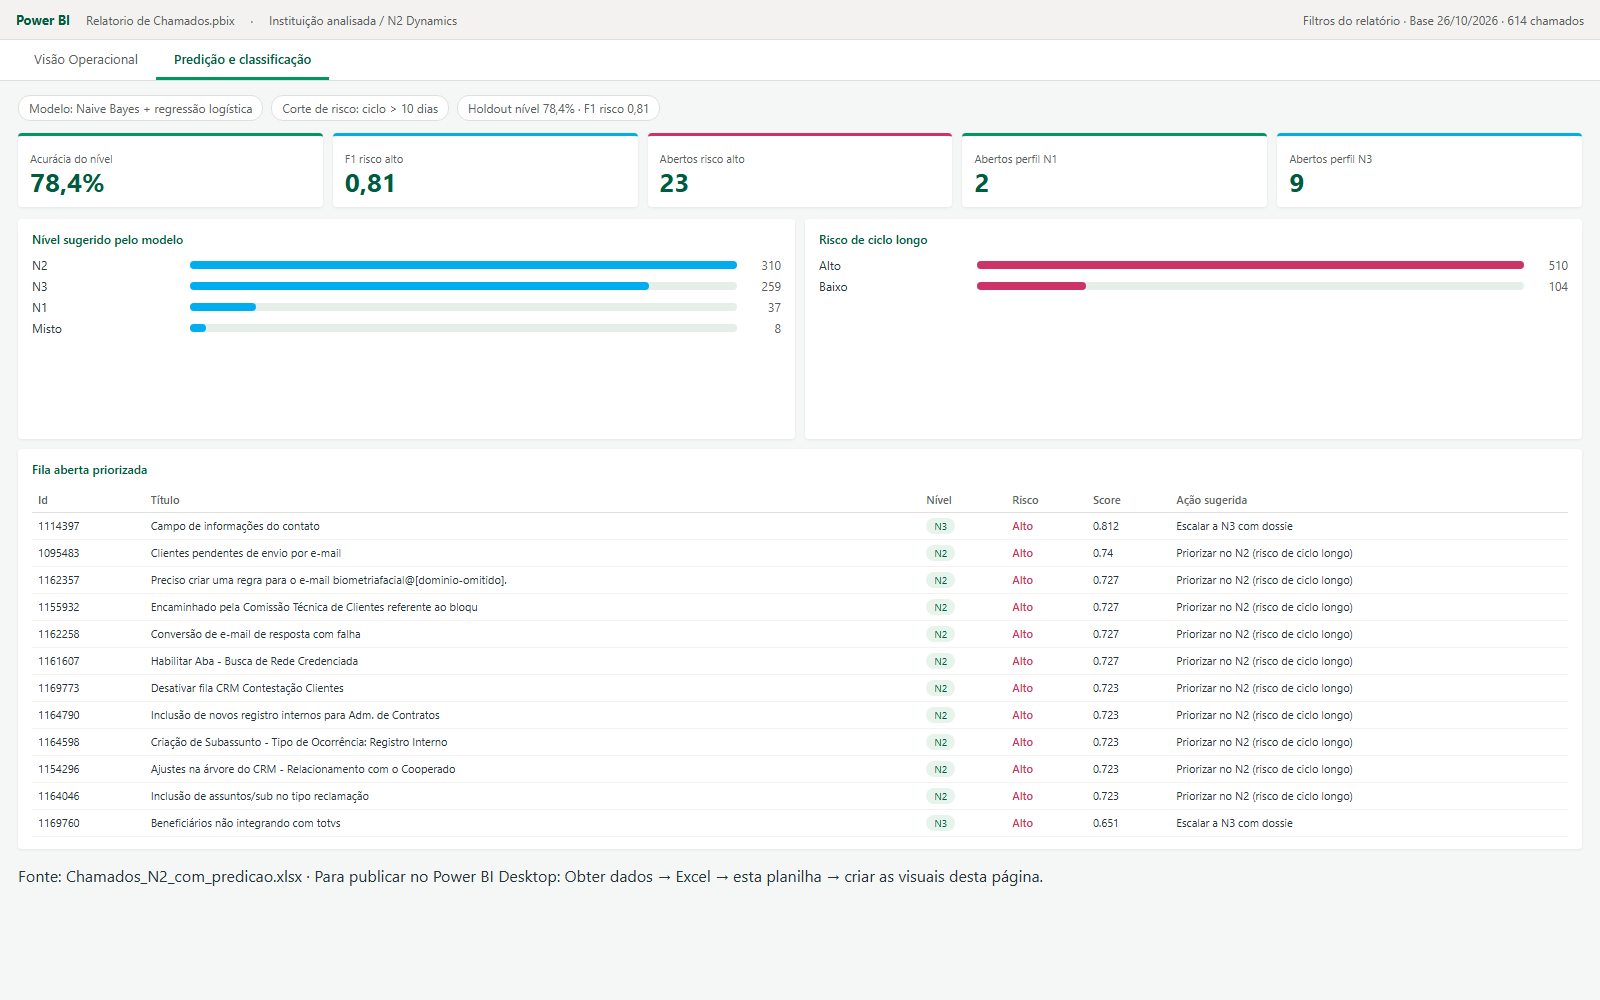

What the dashboard file says about the page in this screenshot:
{"tool":"powerbi","page":{"name":"Predição e Classificação","canvas":[1920,1080],"ordinal":1},"visuals":[{"type":"textbox","box":[0,0,1920,74],"z":0},{"type":"slicer","title":"Nível Preditivo (ML)","fields":{"Values":["Chamados.Nivel predito (ML)"]},"box":[0,74,538,88],"z":1},{"type":"slicer","title":"Risco Ciclo Longo","fields":{"Values":["Chamados.Risco ciclo longo"]},"box":[538,76,398,86],"z":2},{"type":"slicer","title":"Ação Sugerida","fields":{"Values":["Chamados.Acao sugerida"]},"box":[936,76,650,86],"z":3},{"type":"slicer","title":"Aberto","fields":{"Values":["Chamados.Aberto"]},"box":[1586,76,334,86],"z":4},{"type":"cardVisual","fields":{"Data":["Chamados.Abertos"]},"box":[0,162,368,94],"z":5},{"type":"cardVisual","fields":{"Data":["Chamados.Risco Alto Abertos"]},"box":[368,162,374,94],"z":6},{"type":"cardVisual","fields":{"Data":["Chamados.Abertos N1"]},"box":[742,162,386,94],"z":7},{"type":"cardVisual","fields":{"Data":["Chamados.Abertos N3"]},"box":[1128,162,388,94],"z":8},{"type":"cardVisual","fields":{"Data":["Avg(Chamados.Score risco)"]},"box":[1516,162,404,94],"z":9},{"type":"donutChart","title":"Risco de ciclo longo","fields":{"Category":["Chamados.Risco ciclo longo"],"Y":["CountNonNull(Chamados.Id Chamado Qualitor)"]},"box":[0,256,742,236],"z":10},{"type":"barChart","title":"Nível sugerido pelo modelo","fields":{"Category":["Chamados.Nivel predito (ML)"],"Y":["CountNonNull(Chamados.Id Chamado Qualitor)"]},"box":[742,256,1178,236],"z":11},{"type":"tableEx","title":"Fila aberta priorizada","fields":{"Values":["Chamados.Id Chamado Qualitor","Chamados.Titulo","Chamados.Nivel predito (ML)","Chamados.Confianca nivel","Chamados.Risco ciclo longo","Chamados.Score risco","Chamados.Acao sugerida","Chamados.Razao do Status","Chamados.Responsavel"]},"box":[0,492,1920,578],"z":12}]}

Visuals, with their boxes on the page's 1920x1080 design canvas (x1, y1, x2, y2). These are canvas units, not pixel positions in the 1600x1000 screenshot, which may show the page scaled, cropped or inside an application window:
textbox: pyautogui.locateOnScreen(0, 0, 1920, 74)
"Nível Preditivo (ML)" slicer: pyautogui.locateOnScreen(0, 74, 538, 162)
"Risco Ciclo Longo" slicer: pyautogui.locateOnScreen(538, 76, 936, 162)
"Ação Sugerida" slicer: pyautogui.locateOnScreen(936, 76, 1586, 162)
"Aberto" slicer: pyautogui.locateOnScreen(1586, 76, 1920, 162)
cardVisual - Chamados.Abertos: pyautogui.locateOnScreen(0, 162, 368, 256)
cardVisual - Chamados.Risco Alto Abertos: pyautogui.locateOnScreen(368, 162, 742, 256)
cardVisual - Chamados.Abertos N1: pyautogui.locateOnScreen(742, 162, 1128, 256)
cardVisual - Chamados.Abertos N3: pyautogui.locateOnScreen(1128, 162, 1516, 256)
cardVisual - Avg(Chamados.Score risco): pyautogui.locateOnScreen(1516, 162, 1920, 256)
"Risco de ciclo longo" donutChart: pyautogui.locateOnScreen(0, 256, 742, 492)
"Nível sugerido pelo modelo" barChart: pyautogui.locateOnScreen(742, 256, 1920, 492)
"Fila aberta priorizada" tableEx: pyautogui.locateOnScreen(0, 492, 1920, 1070)
